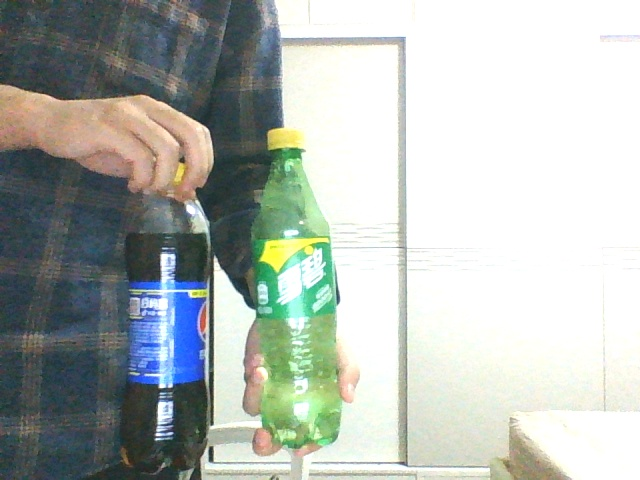Cola: (122, 163, 213, 464)
Sprite: (251, 126, 343, 447)
